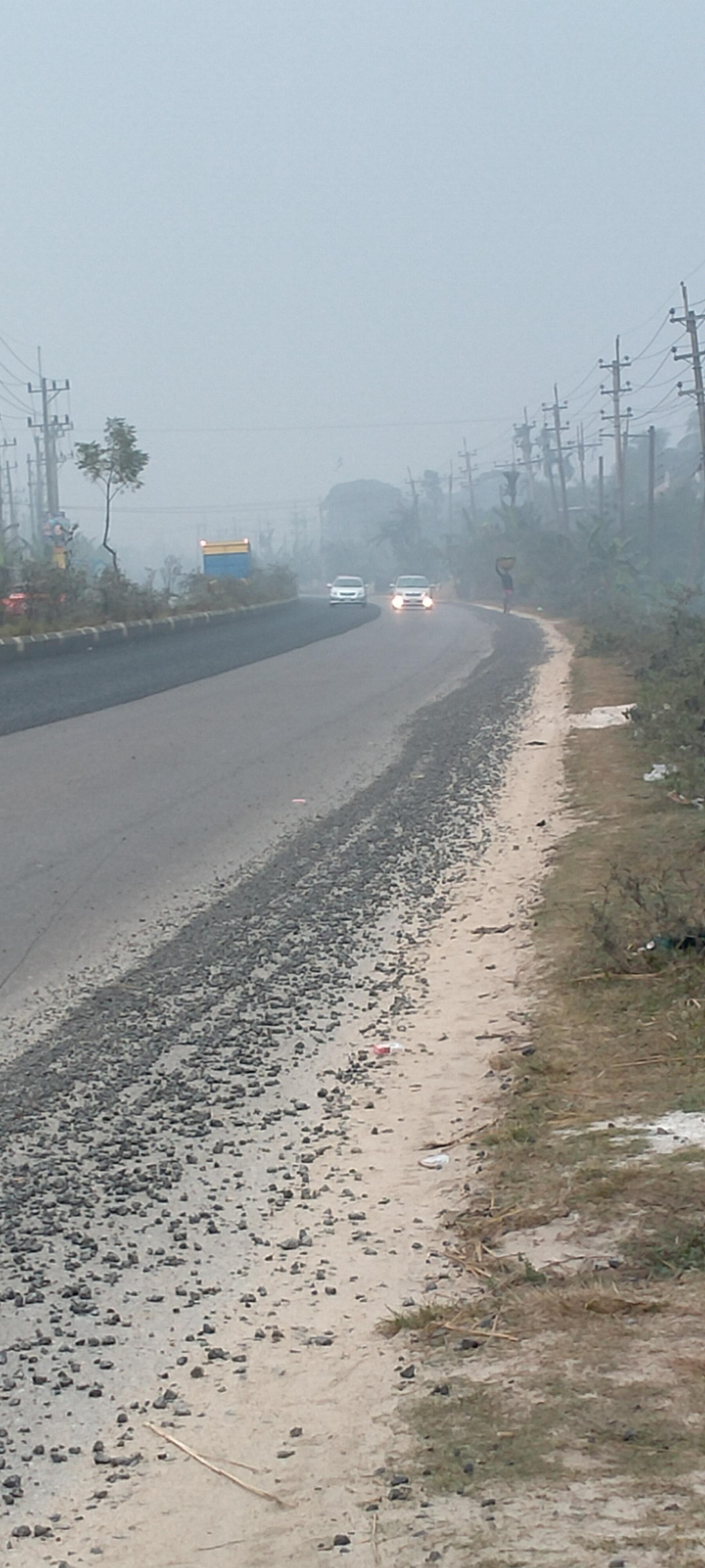Car: (316, 568, 375, 611), (387, 566, 437, 614)
Truck: (184, 534, 269, 590)
